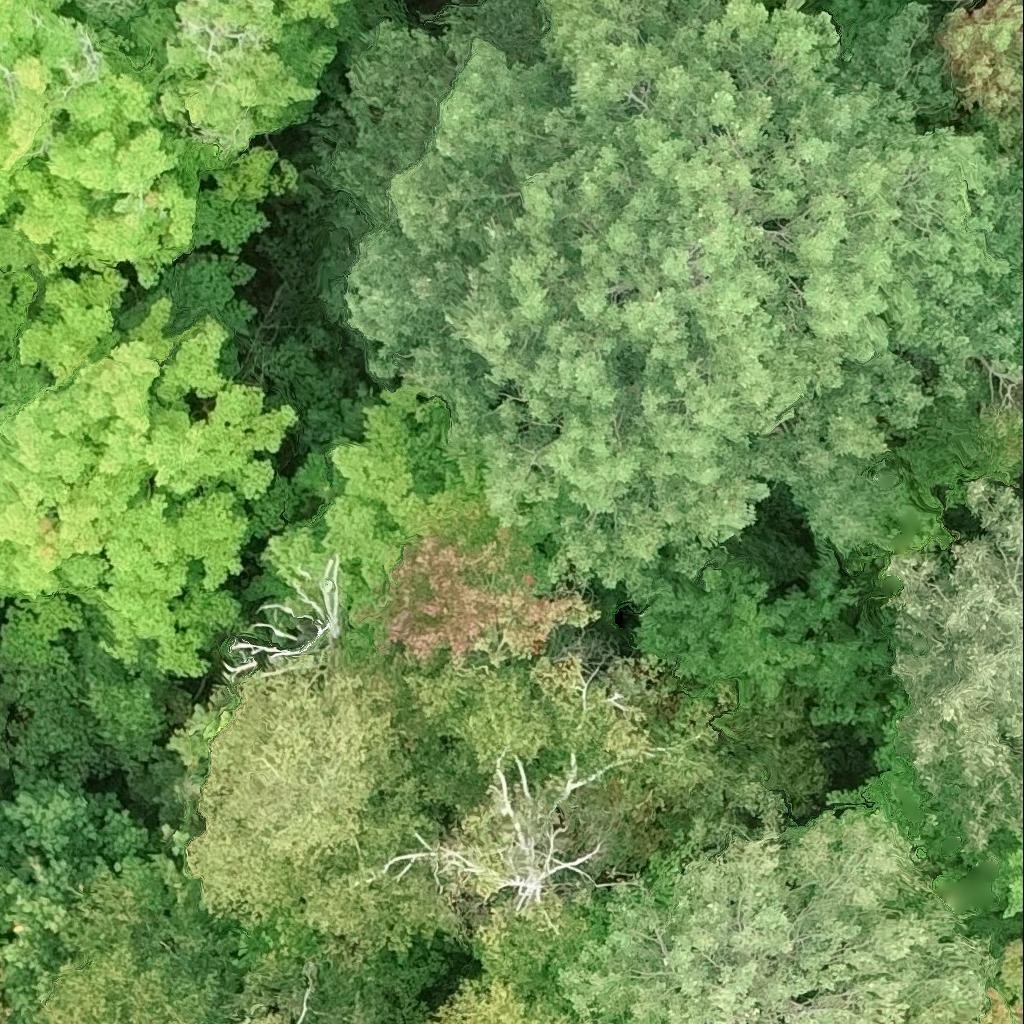crown: (301, 0, 1023, 592), (0, 253, 299, 678), (0, 0, 408, 295), (404, 647, 784, 961), (178, 625, 463, 987), (556, 812, 997, 1023), (629, 538, 902, 815), (248, 385, 502, 663), (882, 471, 1023, 849), (423, 849, 680, 1023), (11, 850, 242, 1023), (0, 760, 149, 1023), (379, 523, 595, 677), (894, 345, 1023, 515), (940, 0, 1023, 174), (224, 554, 340, 678), (230, 954, 406, 1023), (127, 747, 188, 822), (991, 834, 1023, 931), (0, 700, 10, 765), (0, 1002, 11, 1023), (0, 968, 1, 980)
